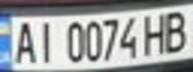0: (60, 18, 84, 64), (84, 17, 106, 63)
4: (118, 12, 142, 60)
7: (100, 16, 121, 61)
A: (9, 17, 39, 65)
B: (160, 7, 190, 54)
H: (139, 9, 172, 56)
I: (33, 18, 60, 64)
